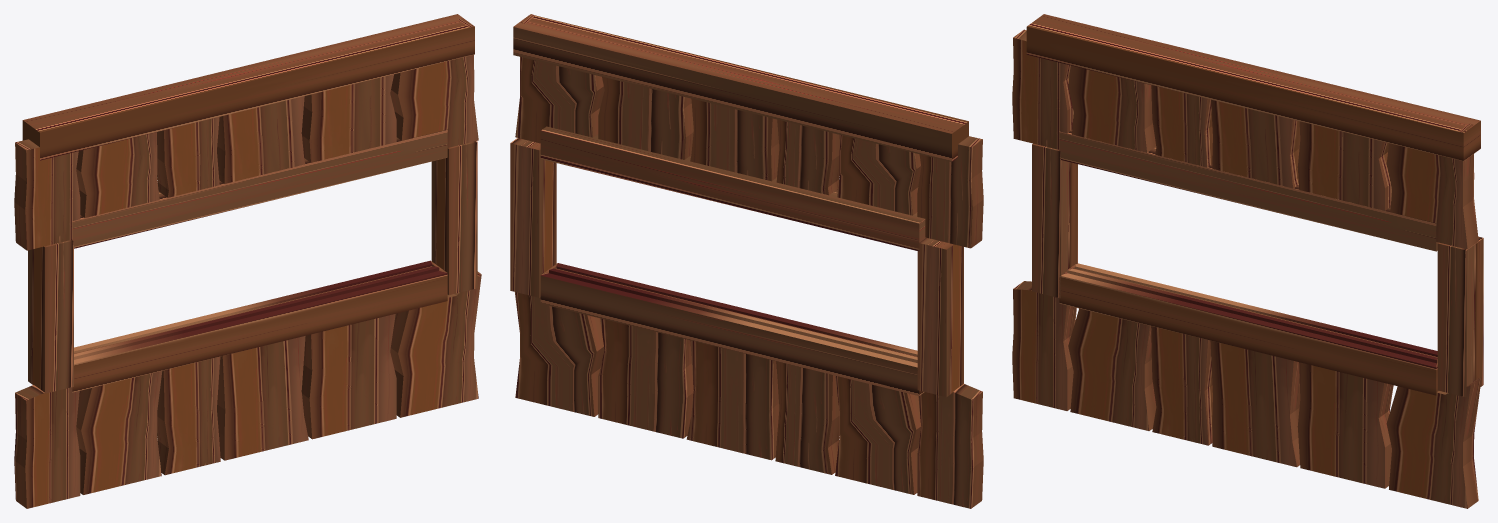
The model's file is MSH_Piso1_VentanaPrincipal1.FBX.
The picture shows the model from 3 angles, left to right: view 1: azimuth 30°, elevation 25°; view 2: azimuth 150°, elevation 25°; view 3: azimuth 330°, elevation 25°; orthographic projection.
Visible parts, largest first — view 1: MSH_Piso1_VentanaPrincipal1; view 2: MSH_Piso1_VentanaPrincipal1; view 3: MSH_Piso1_VentanaPrincipal1.
Boxes of the visible parts, left/top/right/bottom form: MSH_Piso1_VentanaPrincipal1: left=14, top=14, right=481, bottom=508; MSH_Piso1_VentanaPrincipal1: left=510, top=14, right=983, bottom=508; MSH_Piso1_VentanaPrincipal1: left=1012, top=14, right=1483, bottom=508.
Size of the model in its own units: 191 by 149 by 12.41.
Materials: 1 (1 with a texture image).
